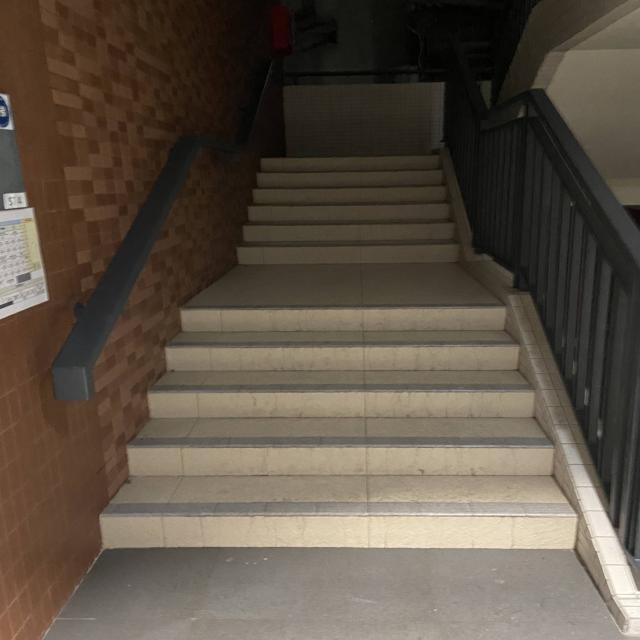Stairs: (84, 288, 596, 571), (227, 138, 486, 276)
